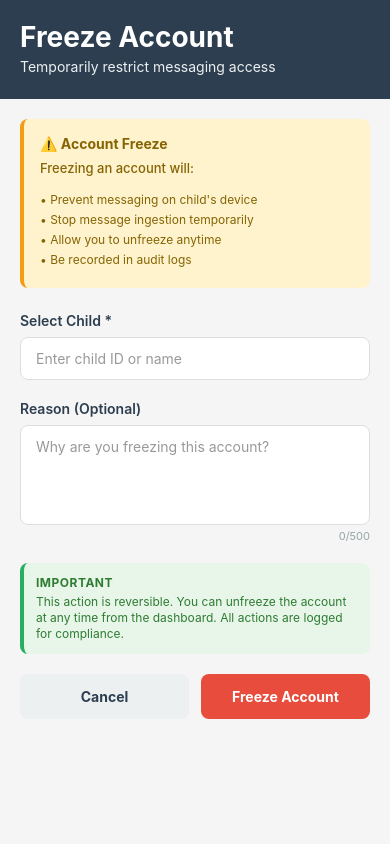
FreezeScreen › Validation › should show error when childId is not selected
Click the element with test id "freeze-submit-button".
click(286, 696)  # box [201,674,370,719]
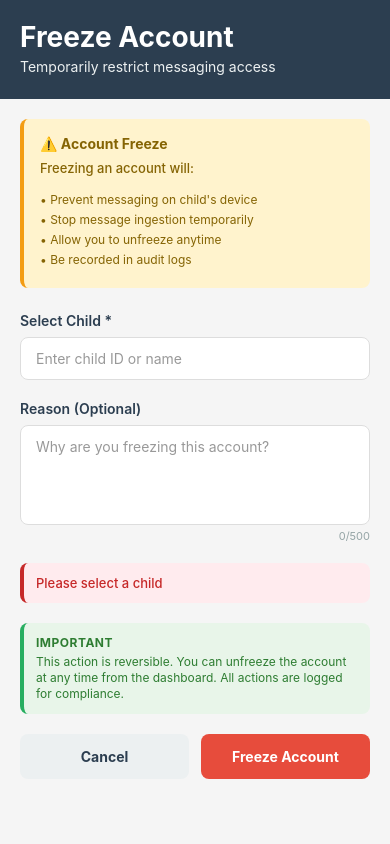
Now the text "Please select a child" is shown, box [36,575,163,591]
